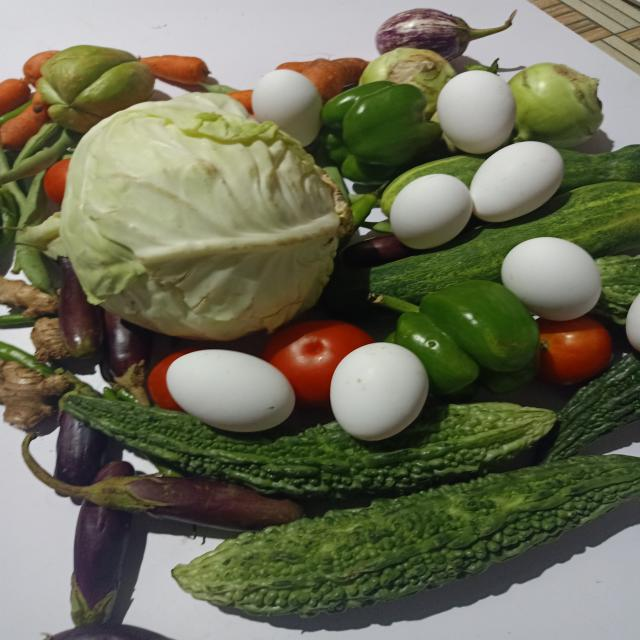Bitter Gourd: (171, 455, 640, 618), (61, 395, 557, 499)
Brinjal: (20, 433, 301, 531), (69, 502, 131, 627), (93, 462, 133, 482)
Cabbage: (58, 92, 352, 341)
Chayote: (320, 181, 640, 318), (37, 44, 154, 132)
Egg: (165, 350, 295, 432), (330, 342, 429, 441), (502, 237, 602, 321), (470, 141, 564, 222), (437, 69, 517, 153), (389, 174, 473, 249), (251, 68, 322, 145)
Eggplant: (375, 7, 517, 60)
Turnip: (509, 62, 604, 148), (359, 47, 456, 119)
